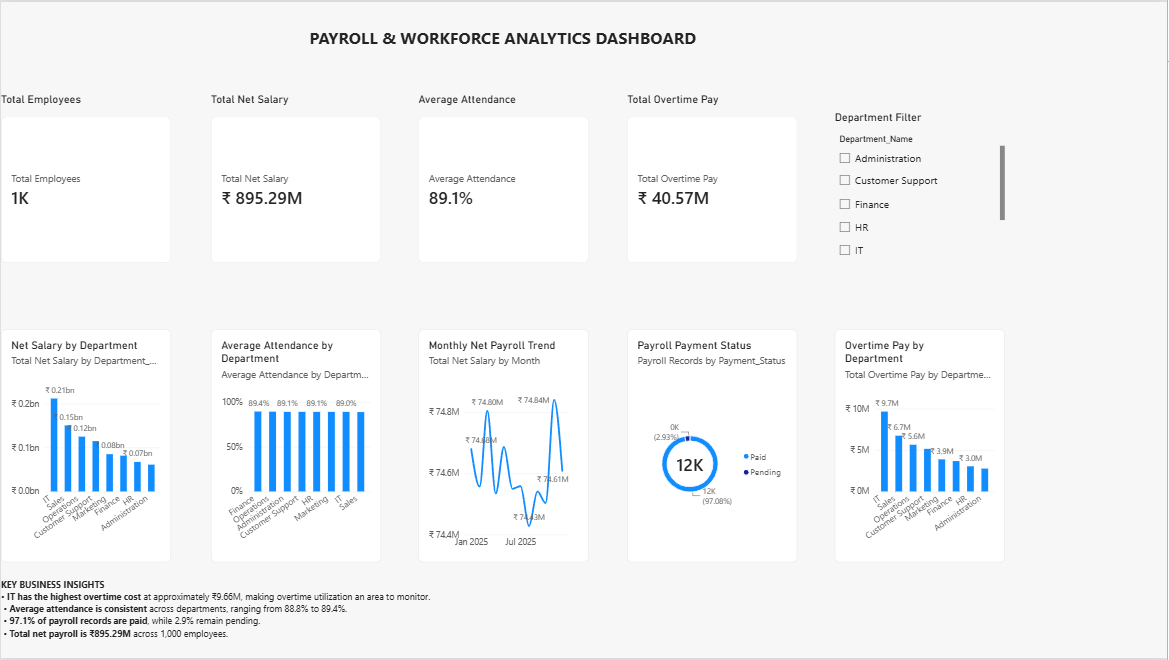

The page's visual inventory and layout, read from the dashboard file:
{"tool":"powerbi","page":{"name":"Page 1","canvas":[1920,1080],"ordinal":0},"visuals":[{"type":"cardVisual","title":"Total Employees","fields":{"Data":["Clean_Employees.Total Employees"]},"box":[0,150.3,280,280],"z":0},{"type":"cardVisual","title":"Total Net Salary","fields":{"Data":["Clean_Payroll.Total Net Salary"]},"box":[345.8,150.3,279.9,279.9],"z":1000},{"type":"cardVisual","title":"Average Attendance","fields":{"Data":["Clean_Attendance.Average Attendance"]},"box":[687.5,150.3,280,280],"z":2000},{"type":"cardVisual","title":"Total Overtime Pay","fields":{"Data":["Clean_Payroll.Total Overtime Pay"]},"box":[1031.2,150.3,280,280],"z":3000},{"type":"clusteredColumnChart","title":"Net Salary by Department","fields":{"Category":["Clean_Departments.Department_Name"],"Y":["Clean_Payroll.Total Net Salary"]},"box":[0,539.3,279.9,382.8],"z":4000},{"type":"clusteredColumnChart","title":"Average Attendance by Department","fields":{"Category":["Clean_Departments.Department_Name"],"Y":["Clean_Attendance.Average Attendance"]},"box":[345.8,539.3,279.9,382.8],"z":5000},{"type":"lineChart","title":"Monthly Net Payroll Trend","fields":{"Y":["Clean_Payroll.Total Net Salary"],"Category":["Clean_Payroll.Month"]},"box":[687.5,539.3,279.9,382.8],"z":6000},{"type":"donutChart","title":"Payroll Payment Status","fields":{"Category":["Clean_Payroll.Payment_Status"],"Y":["Clean_Payroll.Payroll Records"]},"box":[1031.2,539.3,279.9,382.8],"z":7000},{"type":"clusteredColumnChart","title":"Overtime Pay by Department","fields":{"Category":["Clean_Departments.Department_Name"],"Y":["Clean_Payroll.Total Overtime Pay"]},"box":[1372.9,539.3,279.9,382.8],"z":8000},{"type":"slicer","title":"Department Filter","fields":{"Values":["Clean_Departments.Department_Name"]},"box":[1372.9,179.1,279.9,251.1],"z":9000},{"type":"textbox","box":[0,41.2,1652.8,109.1],"z":10000},{"type":"textbox","box":[0,948.9,1920.4,117.3],"z":11000}]}

Visuals, with their boxes in screenshot pixels (x1, y1, x2, y2), scaled from the page's 1920x1080 canvas onto the 1169x660 screenshot:
"Total Employees" cardVisual: (x1=0, y1=92, x2=170, y2=263)
"Total Net Salary" cardVisual: (x1=211, y1=92, x2=381, y2=263)
"Average Attendance" cardVisual: (x1=419, y1=92, x2=589, y2=263)
"Total Overtime Pay" cardVisual: (x1=628, y1=92, x2=798, y2=263)
"Net Salary by Department" clusteredColumnChart: (x1=0, y1=330, x2=170, y2=564)
"Average Attendance by Department" clusteredColumnChart: (x1=211, y1=330, x2=381, y2=564)
"Monthly Net Payroll Trend" lineChart: (x1=419, y1=330, x2=589, y2=564)
"Payroll Payment Status" donutChart: (x1=628, y1=330, x2=798, y2=564)
"Overtime Pay by Department" clusteredColumnChart: (x1=836, y1=330, x2=1006, y2=564)
"Department Filter" slicer: (x1=836, y1=109, x2=1006, y2=263)
textbox: (x1=0, y1=25, x2=1006, y2=92)
textbox: (x1=0, y1=580, x2=1168, y2=652)
